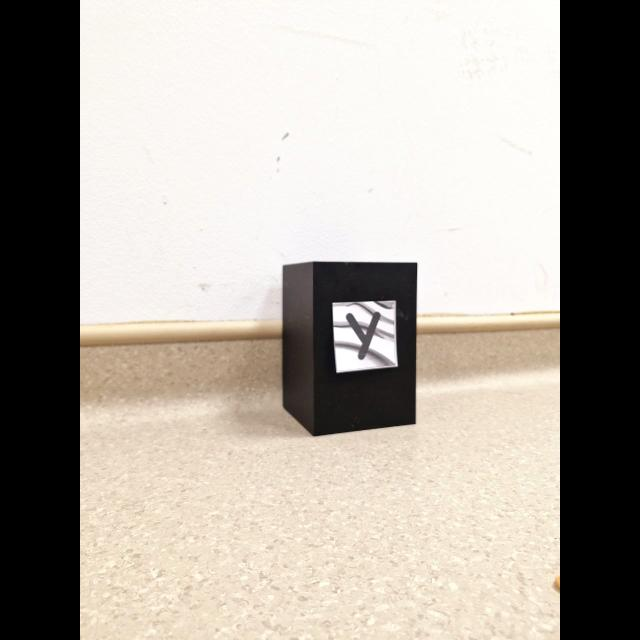Y: (346, 312, 380, 359)
